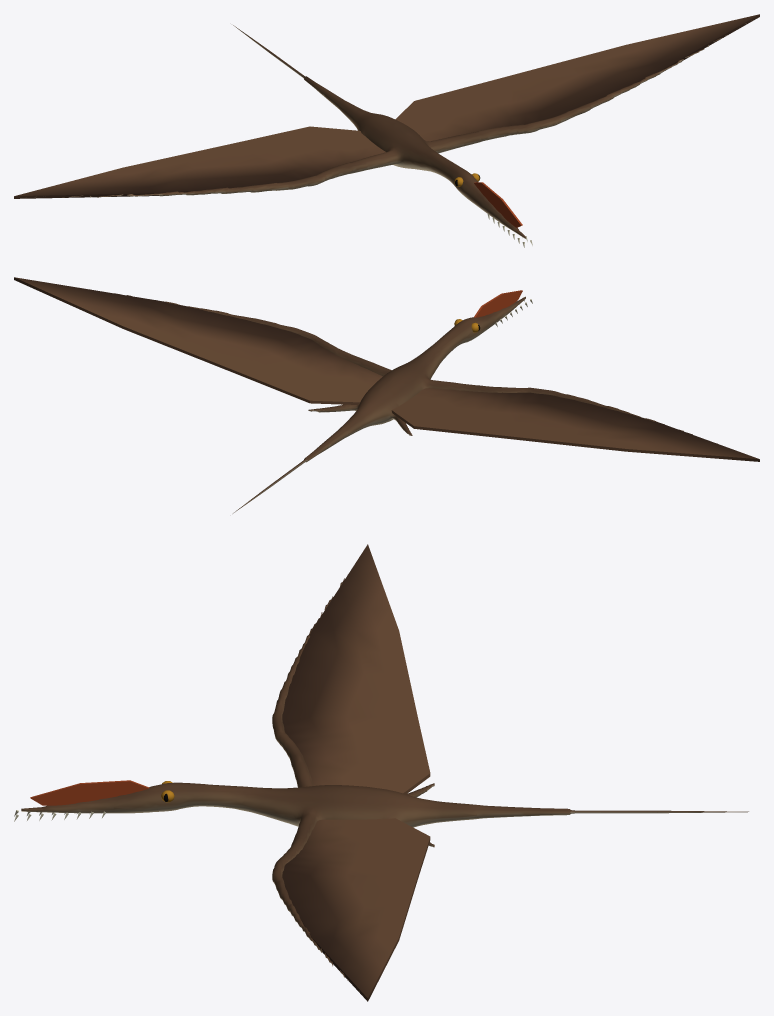
The model's file is Darwinopterus.fbx.
The picture shows the model from 3 angles, top to bottom: view 1: azimuth 30°, elevation 25°; view 2: azimuth 150°, elevation 25°; view 3: azimuth 270°, elevation 25°; orthographic projection. The views are drawn at different scales.
Parts seen in each view (by area): view 1: Darwinopterus; view 2: Darwinopterus; view 3: Darwinopterus.
Part boxes in pixels (x1=…): Darwinopterus: x1=14, y1=14, x2=759, y2=247; Darwinopterus: x1=14, y1=277, x2=759, y2=513; Darwinopterus: x1=14, y1=544, x2=748, y2=1001.
Bounding box in the file's own units: 1.72 × 0.1093 × 1.19.
